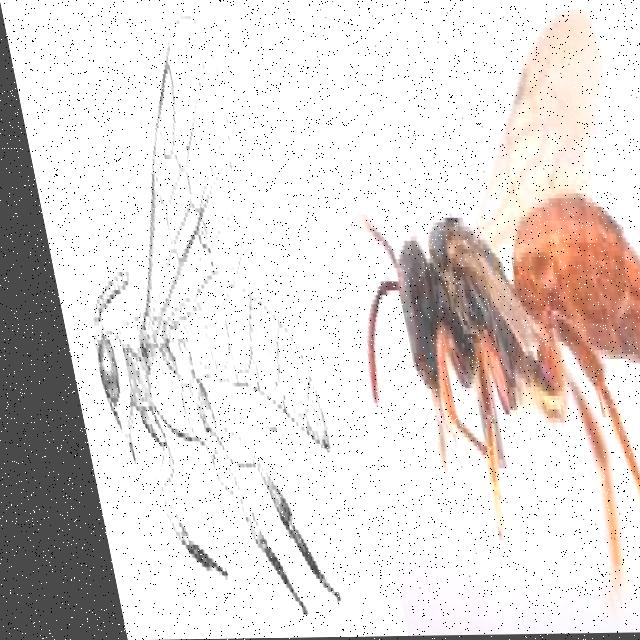Allodapula: (292, 0, 640, 624)
